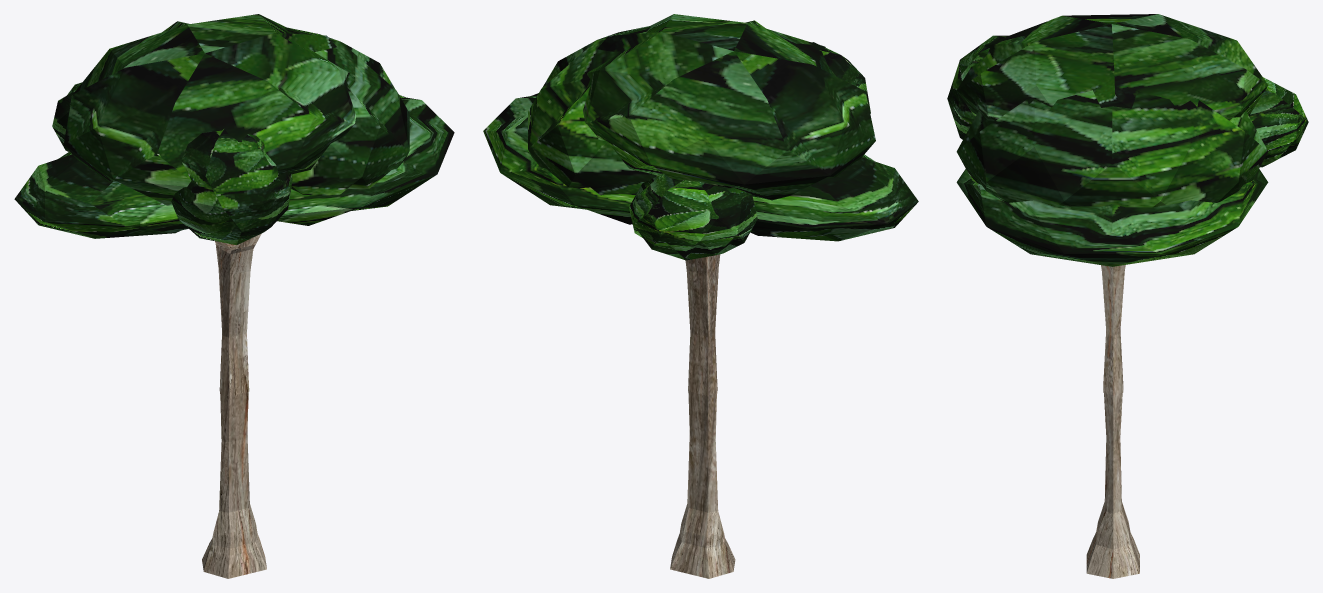
File: sm_Arbol 1.fbx
The picture shows the model from 3 angles, left to right: view 1: azimuth 30°, elevation 25°; view 2: azimuth 150°, elevation 25°; view 3: azimuth 270°, elevation 25°; orthographic projection.
Visible parts, largest first — view 1: SM_Arbol; view 2: SM_Arbol; view 3: SM_Arbol.
Part boxes in pixels (bbox=[...]): SM_Arbol: bbox=[14, 14, 454, 578]; SM_Arbol: bbox=[483, 14, 918, 578]; SM_Arbol: bbox=[947, 14, 1308, 578].
Bounding box in the file's own units: 391 × 489 × 304.
1 material, 1 textured.
